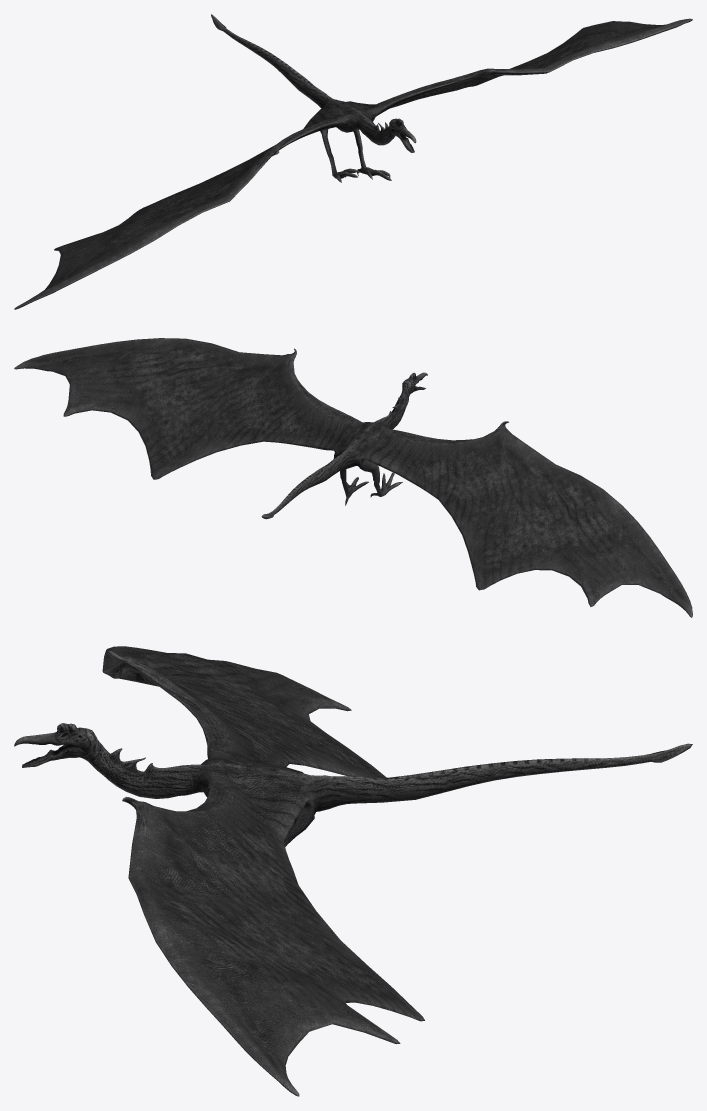
The model's file is Fellbeast_Animate_Grab_Glide_25.obj.
3 renders of one model, top to bottom at view 1: azimuth 30°, elevation 25°; view 2: azimuth 150°, elevation 25°; view 3: azimuth 270°, elevation 25°, orthographic. The views are drawn at different scales.
Parts seen in each view (by area): view 1: Fellbeast; view 2: Fellbeast; view 3: Fellbeast.
Boxes of the visible parts, x1,y1,x2,y2 form: Fellbeast: (14,14,692,309); Fellbeast: (14,338,692,617); Fellbeast: (14,646,692,1096).
Bounding box in the file's own units: 9.27 × 1.93 × 4.36.
